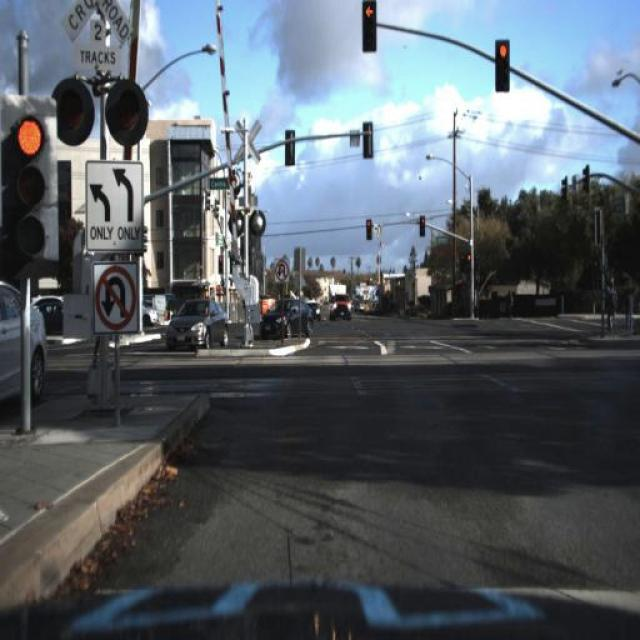semaforo: (0, 97, 56, 277), (361, 0, 377, 51), (495, 40, 510, 92)
